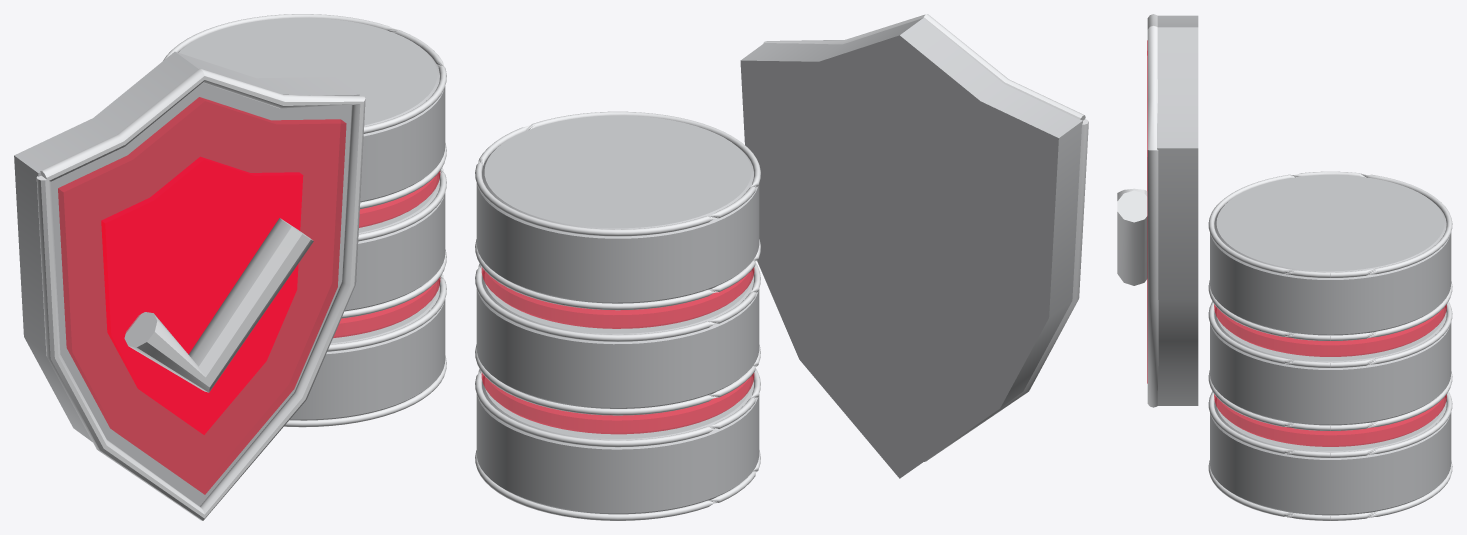
Rendered from 20-security.glb.
3 views of the same model, side by side, from view 1: azimuth 30°, elevation 25°; view 2: azimuth 150°, elevation 25°; view 3: azimuth 270°, elevation 25° (orthographic). The views are drawn at different scales.
Parts seen in each view (by area): view 1: BC satin iron, BC ruby optical glass, BC polished iron bevel, BC internal ruby light; view 2: BC satin iron, BC polished iron bevel, BC ruby optical glass; view 3: BC satin iron, BC polished iron bevel, BC ruby optical glass.
Part boxes in pixels (bbox=[...]): BC satin iron: bbox=[14, 18, 445, 506]; BC ruby optical glass: bbox=[58, 97, 440, 494]; BC polished iron bevel: bbox=[36, 14, 446, 520]; BC internal ruby light: bbox=[101, 156, 303, 434]; BC satin iron: bbox=[476, 18, 1082, 514]; BC polished iron bevel: bbox=[475, 14, 1088, 520]; BC ruby optical glass: bbox=[481, 267, 754, 434]; BC satin iron: bbox=[1157, 15, 1451, 515]; BC polished iron bevel: bbox=[1117, 14, 1452, 520]; BC ruby optical glass: bbox=[1147, 40, 1446, 446].
Size of the model in its own units: 1.8 by 1.57 by 1.25.
